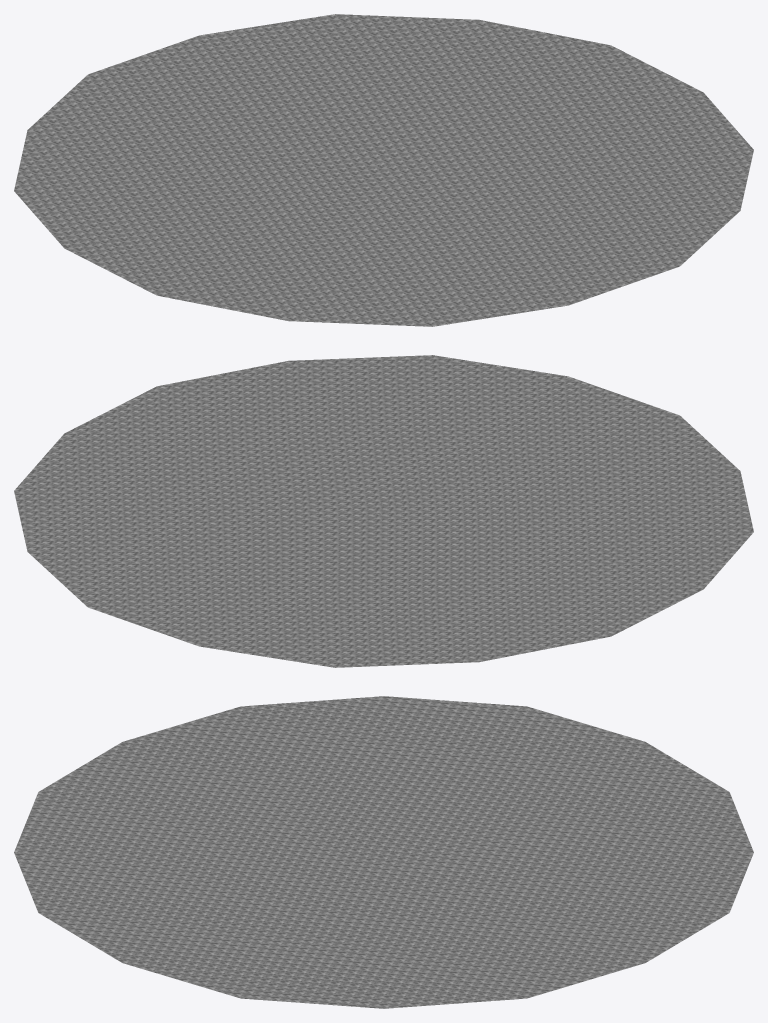
File: reflect_9.dae
3 renders of one model, top to bottom at view 1: azimuth 30°, elevation 25°; view 2: azimuth 150°, elevation 25°; view 3: azimuth 270°, elevation 25°, orthographic.
Parts seen in each view (by area): view 1: n0b0; view 2: n0b0; view 3: n0b0.
Boxes of the visible parts, x1,y1,x2,y2 form: n0b0: [14, 14, 753, 326]; n0b0: [14, 355, 753, 667]; n0b0: [14, 696, 753, 1008].
Size of the model in its own units: 526298 by 1793 by 526298.
1 material, 1 textured.
